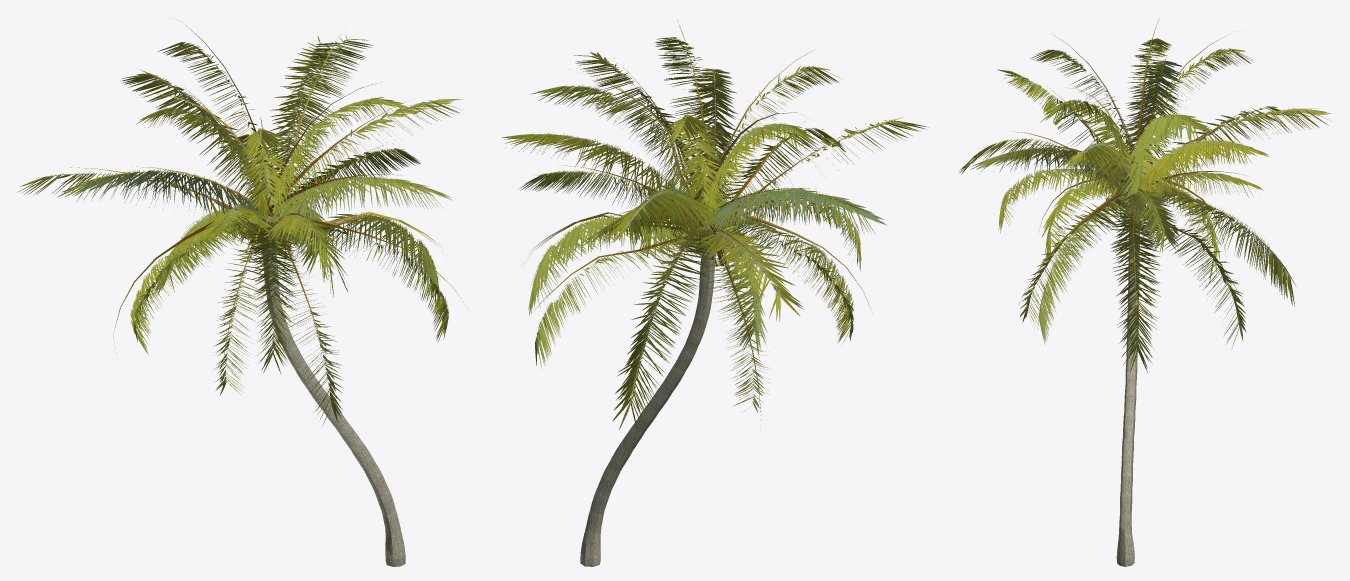
Rendered from bended_coconut_tree.glb.
3 views of the same model, side by side, from view 1: azimuth 30°, elevation 25°; view 2: azimuth 150°, elevation 25°; view 3: azimuth 270°, elevation 25° (orthographic). The views are drawn at different scales.
Parts seen in each view (by area): view 1: Object_3, Object_4, Object_5; view 2: Object_3, Object_4, Object_5; view 3: Object_3, Object_4, Object_5.
Part boxes in pixels (x1,y1,x2,y2): Object_3: [18, 22, 448, 428]; Object_4: [130, 99, 463, 413]; Object_5: [262, 216, 405, 566]; Object_3: [501, 20, 928, 420]; Object_4: [522, 52, 861, 433]; Object_5: [580, 222, 715, 566]; Object_3: [959, 18, 1332, 352]; Object_4: [970, 140, 1294, 372]; Object_5: [1116, 218, 1140, 566].
Bounding box in the file's own units: 776 × 1039 × 763.
Materials: 3 (3 with a texture image).
